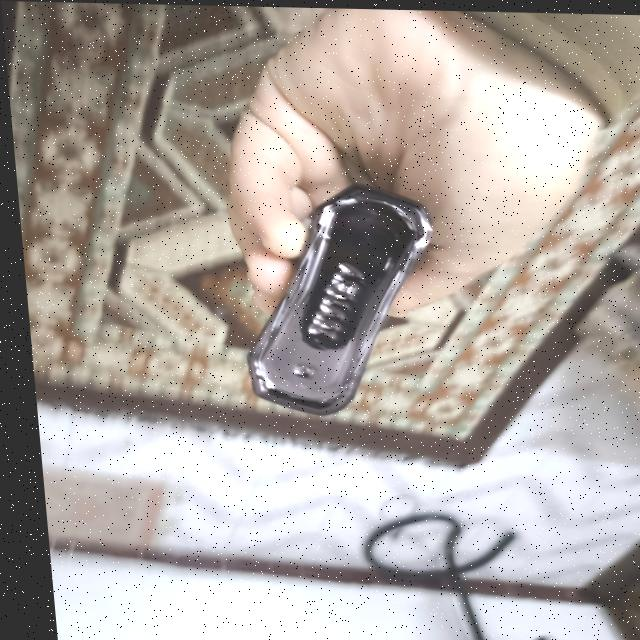Afnan: (226, 178, 443, 418)
